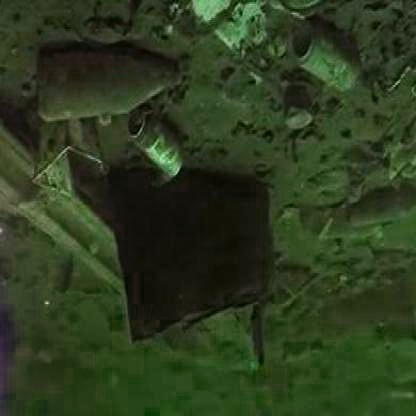can: (299, 14, 369, 110), (136, 107, 200, 195)
